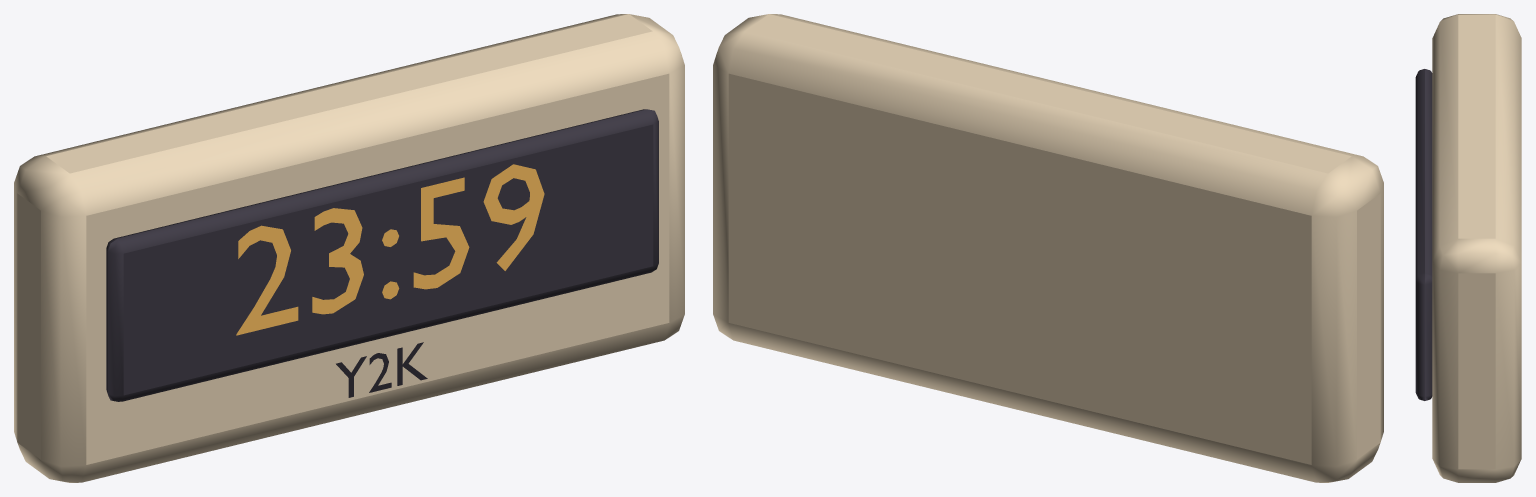
Rendered from era_y2k_clock.glb.
3 renders of one model, left to right at view 1: azimuth 30°, elevation 25°; view 2: azimuth 150°, elevation 25°; view 3: azimuth 270°, elevation 25°, orthographic. The views are drawn at different scales.
Parts seen in each view (by area): view 1: era_y2k_clock; view 2: era_y2k_clock; view 3: era_y2k_clock.
Part boxes in pixels (x1,y1,x2,y2): era_y2k_clock: [14, 14, 684, 482]; era_y2k_clock: [713, 14, 1383, 482]; era_y2k_clock: [1415, 14, 1521, 482].
Bounding box in the file's own units: 0.78 × 0.36 × 0.147.
